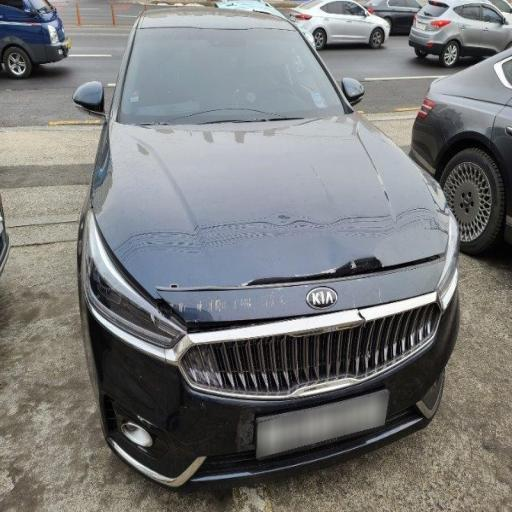broken: (290, 216, 424, 312)
